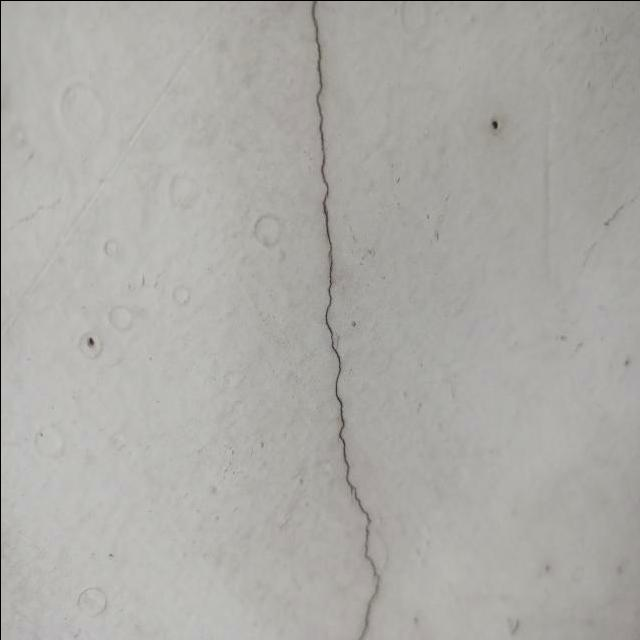SurfaceCrack: (260, 0, 417, 640)
